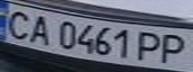0: (51, 19, 78, 51)
1: (112, 27, 136, 60)
4: (75, 22, 96, 55)
6: (93, 25, 115, 57)
A: (24, 12, 57, 45)
C: (0, 8, 36, 41)
P: (157, 31, 193, 64), (133, 29, 166, 63)
